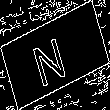N_N: (34, 24, 76, 86)
